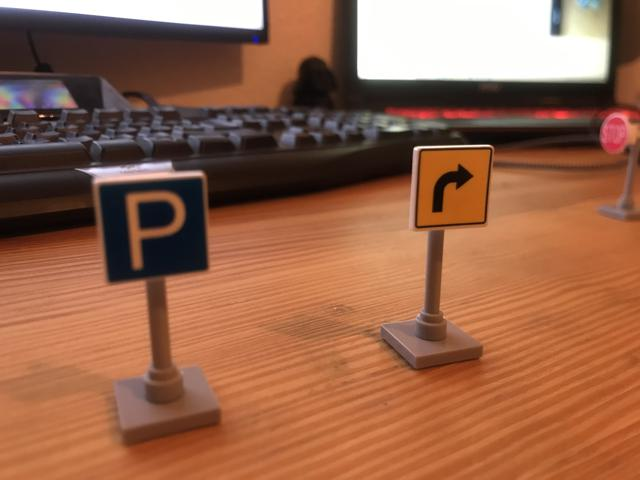fahrtrichtung rechts: (410, 145, 494, 230)
parken: (95, 172, 213, 286)
stop: (599, 112, 631, 157)
